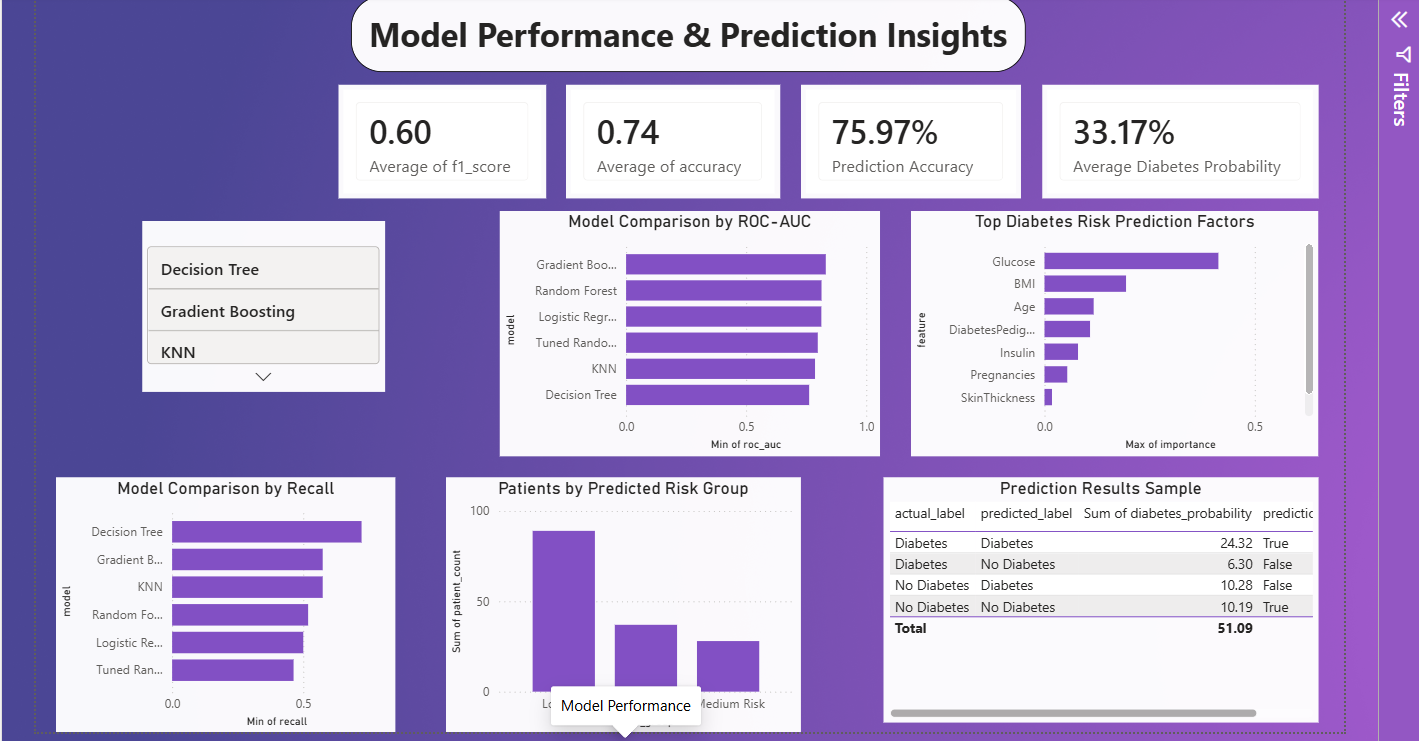

What the dashboard file says about the page in this screenshot:
{"tool":"powerbi","page":{"name":"Model Performance","canvas":[1280,720],"ordinal":2},"visuals":[{"type":"textbox","box":[308.7,0,660,74.1],"z":0},{"type":"cardVisual","fields":{"Data":["diabetes_predictions.Prediction Accuracy"]},"box":[747.9,86.4,215.4,111.1],"z":1},{"type":"cardVisual","fields":{"Data":["diabetes_predictions.Average Diabetes Probability"]},"box":[983.9,86.4,270.3,111.1],"z":2},{"type":"cardVisual","fields":{"Data":["Avg(model_performance.accuracy)"]},"box":[518.7,86.4,209.9,111.1],"z":3},{"type":"cardVisual","fields":{"Rows":["model_performance.model"]},"box":[104.3,219.6,237.4,167.4],"z":4},{"type":"cardVisual","fields":{"Data":["Avg(model_performance.f1_score)"]},"box":[296.4,86.4,203.1,111.1],"z":5},{"type":"clusteredBarChart","title":"Model Comparison by ROC-AUC","fields":{"Category":["model_performance.model"],"Y":["Min(model_performance.roc_auc)"]},"box":[453.7,210.3,371.7,239.7],"z":6},{"type":"clusteredBarChart","title":"Model Comparison by Recall","fields":{"Category":["model_performance.model"],"Y":["Min(model_performance.recall)"]},"box":[19.2,470.7,332.1,249.7],"z":7},{"type":"barChart","title":"Top Diabetes Risk Prediction Factors","fields":{"Category":["feature_importance.feature"],"Y":["Max(feature_importance.importance)"]},"box":[856,210.3,398.6,239.7],"z":8},{"type":"columnChart","title":"Patients by Predicted Risk Group","fields":{"Category":["risk_summary.risk_group"],"Y":["Sum(risk_summary.patient_count)"]},"box":[400.7,470.7,347.2,249.7],"z":9},{"type":"tableEx","title":"Prediction Results Sample","fields":{"Values":["diabetes_predictions.actual_label","diabetes_predictions.predicted_label","Sum(diabetes_predictions.diabetes_probability)","diabetes_predictions.prediction_correct"]},"box":[828.8,470.7,425.4,240.1],"z":10}]}

Visuals, with their boxes in screenshot pixels (x1, y1, x2, y2):
textbox: detection(351, 0, 1022, 72)
cardVisual - diabetes_predictions.Prediction Accuracy: detection(798, 84, 1017, 197)
cardVisual - diabetes_predictions.Average Diabetes Probability: detection(1038, 84, 1313, 197)
cardVisual - Avg(model_performance.accuracy): detection(565, 84, 778, 197)
cardVisual - model_performance.model: detection(143, 220, 385, 390)
cardVisual - Avg(model_performance.f1_score): detection(338, 84, 545, 197)
"Model Comparison by ROC-AUC" clusteredBarChart: detection(499, 210, 877, 454)
"Model Comparison by Recall" clusteredBarChart: detection(56, 475, 394, 729)
"Top Diabetes Risk Prediction Factors" barChart: detection(908, 210, 1313, 454)
"Patients by Predicted Risk Group" columnChart: detection(445, 475, 798, 729)
"Prediction Results Sample" tableEx: detection(880, 475, 1313, 719)
